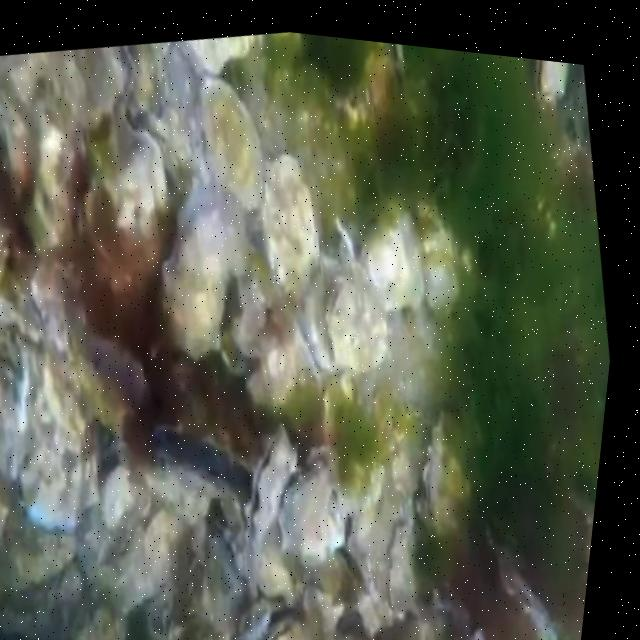Oyster-Closed: (245, 430, 299, 598), (199, 82, 265, 208), (485, 529, 556, 640), (278, 466, 350, 570), (419, 414, 468, 531), (329, 278, 388, 369), (257, 525, 302, 606), (173, 35, 255, 78), (38, 118, 74, 193), (168, 610, 225, 640), (356, 590, 389, 635), (388, 43, 409, 105), (535, 60, 570, 97), (84, 601, 116, 640), (260, 615, 307, 640), (239, 603, 270, 640)
Oyster-Indeterminate: (264, 153, 320, 298), (33, 258, 83, 359), (74, 46, 121, 129), (146, 511, 180, 583), (424, 254, 461, 313), (104, 463, 131, 529)
Oyster-Open: (90, 49, 168, 243), (162, 183, 229, 355), (152, 423, 258, 502), (79, 336, 147, 435), (364, 208, 423, 312), (19, 437, 82, 532), (386, 491, 427, 616), (335, 545, 370, 598), (306, 446, 336, 473)
